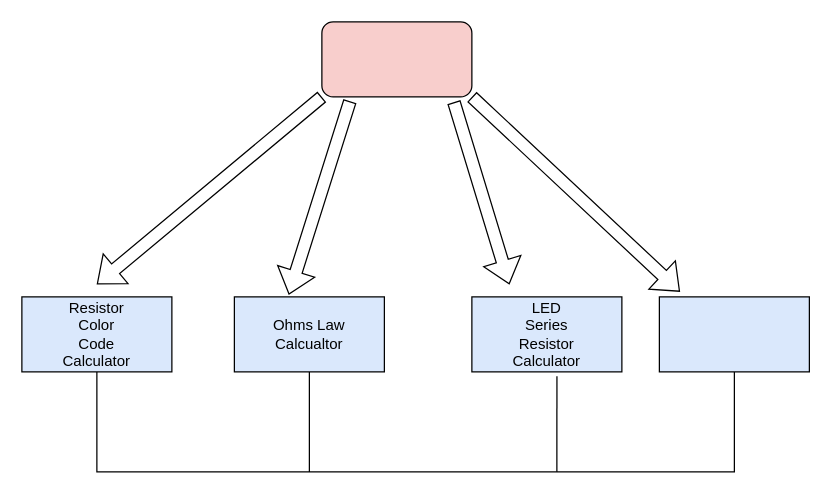
Some shapes in this 831 by 495 pixel diagram are drawn without their labels. Here are the shapes that lost their labels. From the top down, the centre of each, then its label:
At pixel 396 59: "Electrical Calculator".
At pixel 733 334: "Battery Life Calculator".
